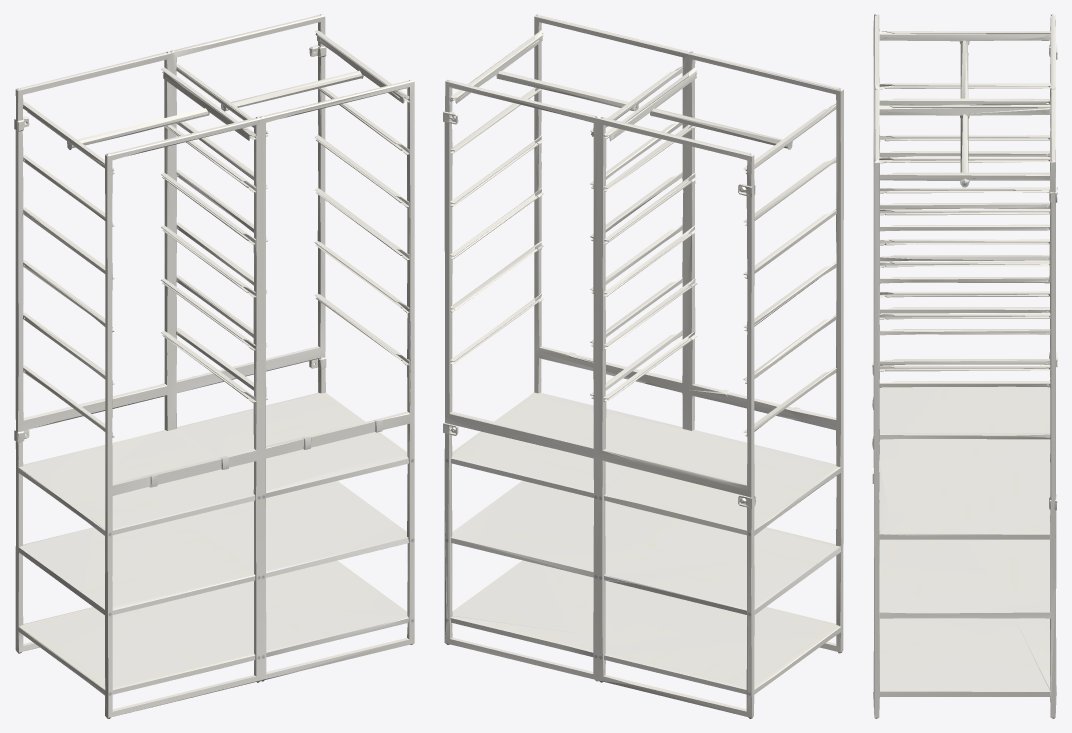
File: jonaxel_kombinacja_szafy_09297657.glb
The picture shows the model from 3 angles, left to right: view 1: azimuth 30°, elevation 25°; view 2: azimuth 150°, elevation 25°; view 3: azimuth 270°, elevation 25°; orthographic projection.
Visible parts, largest first — view 1: jonaxel_kombinacja_szafy_09297657; view 2: jonaxel_kombinacja_szafy_09297657; view 3: jonaxel_kombinacja_szafy_09297657.
Boxes of the visible parts, x1=… form: jonaxel_kombinacja_szafy_09297657: x1=14, y1=14, x2=414, y2=718; jonaxel_kombinacja_szafy_09297657: x1=443, y1=14, x2=843, y2=718; jonaxel_kombinacja_szafy_09297657: x1=872, y1=14, x2=1057, y2=718.
Bounding box in the file's own units: 0.9951 × 1.74 × 0.5224.
1 material, 1 textured.
